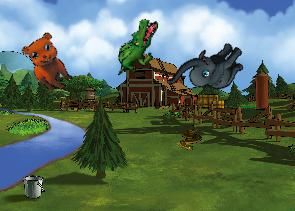bear: (15, 27, 84, 97)
crocodile: (115, 15, 159, 79)
elephant: (165, 24, 251, 113)
